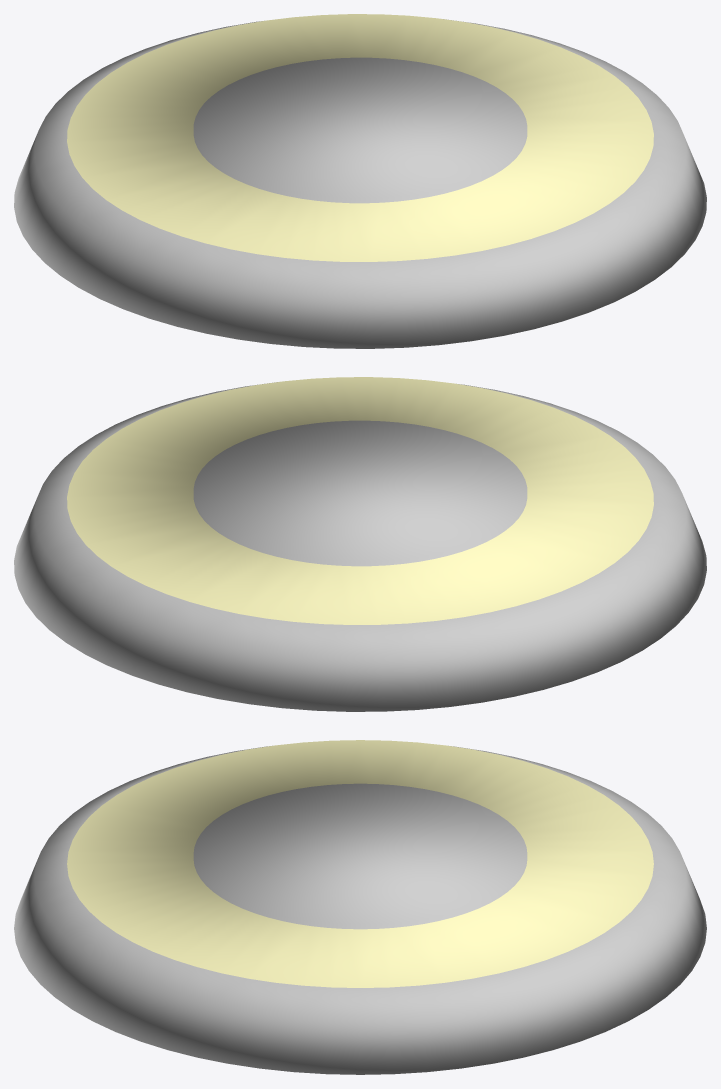
Rendered from GBZH35_Helipad_Light_White.gltf.
3 views of the same model, one above another, from view 1: azimuth 30°, elevation 25°; view 2: azimuth 150°, elevation 25°; view 3: azimuth 270°, elevation 25° (orthographic).
Parts seen in each view (by area): view 1: Light_White; view 2: Light_White; view 3: Light_White.
Boxes of the visible parts, <box> form: Light_White: <box>14,14,706,348</box>; Light_White: <box>14,377,706,711</box>; Light_White: <box>14,740,706,1074</box>.
Bounding box in the file's own units: 0.4 × 0.0473 × 0.4.
